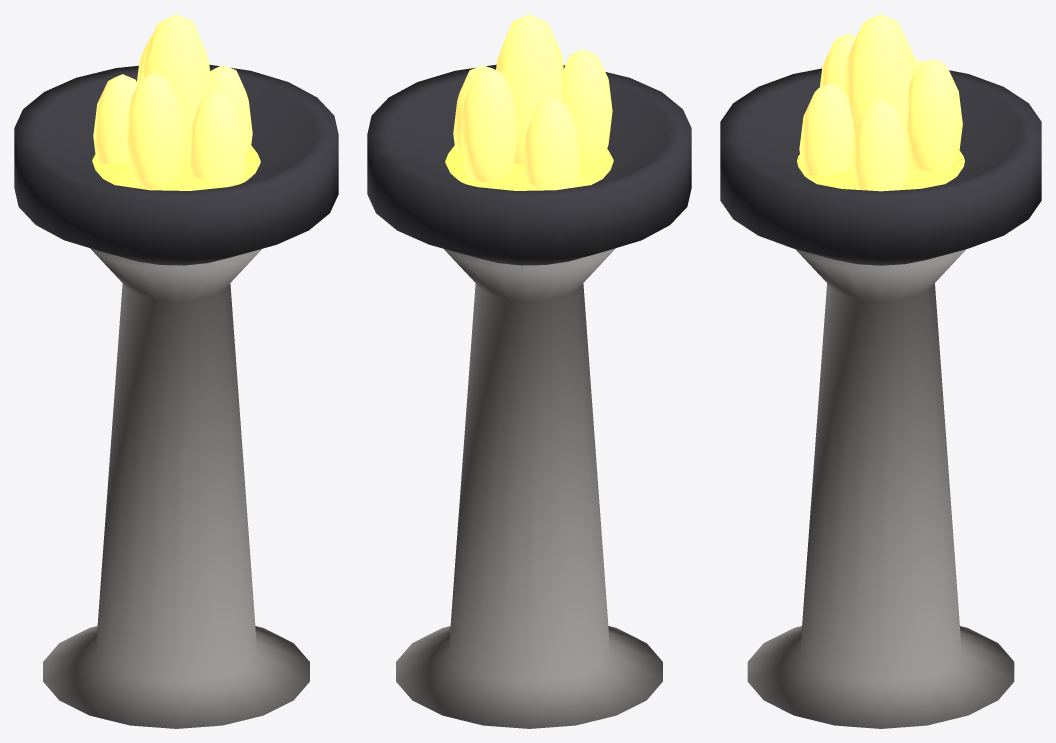
The model's file is brazier_pedestal.glb.
3 views of the same model, side by side, from view 1: azimuth 30°, elevation 25°; view 2: azimuth 150°, elevation 25°; view 3: azimuth 270°, elevation 25° (orthographic).
Parts seen in each view (by area): view 1: GD_brazier_pedestal__m0, GD_brazier_pedestal__m1, GD_brazier_pedestal__m3, GD_brazier_pedestal__m2; view 2: GD_brazier_pedestal__m0, GD_brazier_pedestal__m1, GD_brazier_pedestal__m3, GD_brazier_pedestal__m2; view 3: GD_brazier_pedestal__m0, GD_brazier_pedestal__m1, GD_brazier_pedestal__m3, GD_brazier_pedestal__m2.
Part boxes in pixels (x1=…): GD_brazier_pedestal__m0: x1=43, y1=248, x2=309, y2=728; GD_brazier_pedestal__m1: x1=14, y1=64, x2=338, y2=265; GD_brazier_pedestal__m3: x1=93, y1=14, x2=252, y2=188; GD_brazier_pedestal__m2: x1=92, y1=146, x2=260, y2=190; GD_brazier_pedestal__m0: x1=396, y1=248, x2=662, y2=728; GD_brazier_pedestal__m1: x1=367, y1=64, x2=691, y2=265; GD_brazier_pedestal__m3: x1=453, y1=14, x2=612, y2=190; GD_brazier_pedestal__m2: x1=445, y1=146, x2=613, y2=190; GD_brazier_pedestal__m0: x1=747, y1=249, x2=1014, y2=728; GD_brazier_pedestal__m1: x1=720, y1=68, x2=1041, y2=265; GD_brazier_pedestal__m3: x1=799, y1=14, x2=962, y2=191; GD_brazier_pedestal__m2: x1=797, y1=151, x2=964, y2=189.
Size of the model in its own units: 0.6 by 1.34 by 0.5939.
